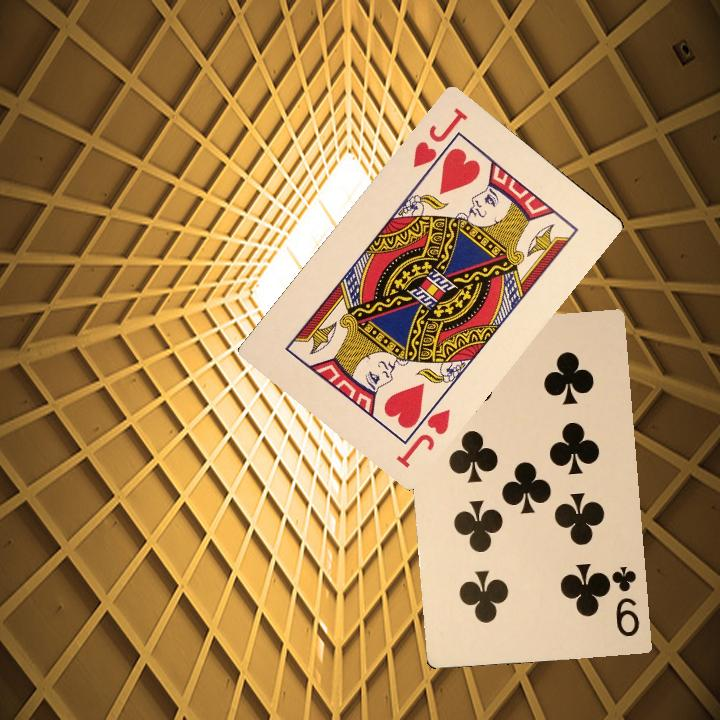9c: (608, 562, 642, 639)
Jh: (408, 103, 471, 180), (392, 405, 453, 471)
